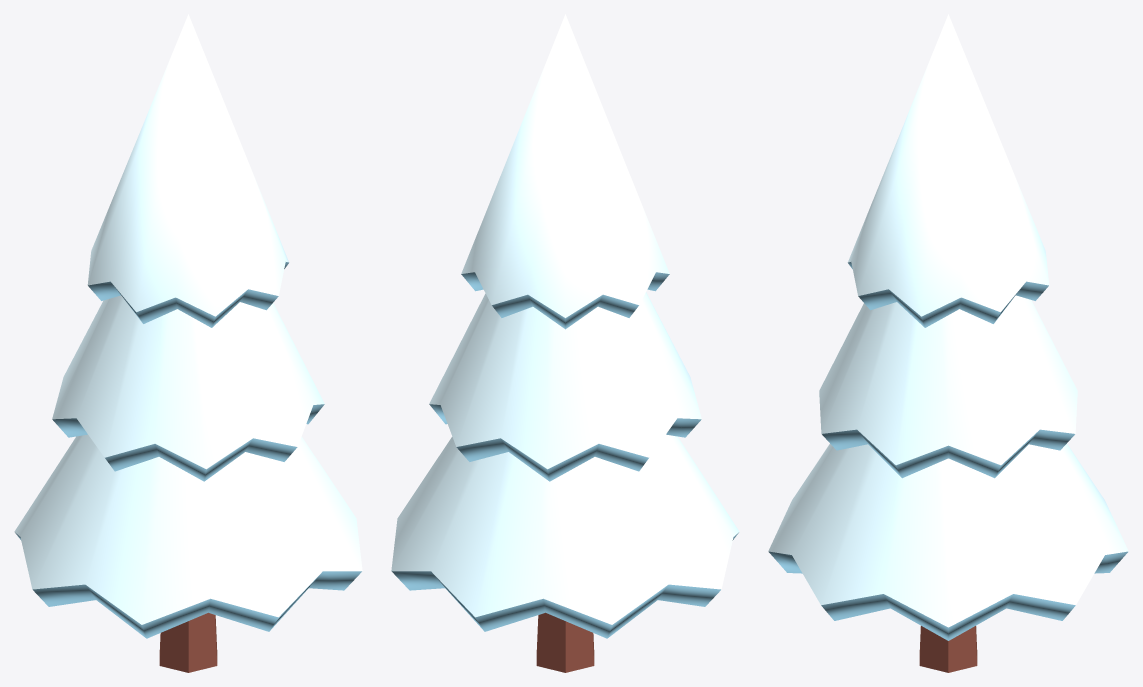
Rendered from Env_Pine_Small.glb.
3 views of the same model, side by side, from view 1: azimuth 30°, elevation 25°; view 2: azimuth 150°, elevation 25°; view 3: azimuth 270°, elevation 25° (orthographic).
Parts seen in each view (by area): view 1: Pine_Small_Foliage, Pine_Small_Trunk; view 2: Pine_Small_Foliage, Pine_Small_Trunk; view 3: Pine_Small_Foliage, Pine_Small_Trunk.
Part boxes in pixels (box(x1,y1,x2,y2)): Pine_Small_Foliage: box(14, 14, 362, 638); Pine_Small_Trunk: box(159, 612, 217, 672); Pine_Small_Foliage: box(391, 14, 739, 638); Pine_Small_Trunk: box(536, 612, 594, 672); Pine_Small_Foliage: box(768, 14, 1128, 640); Pine_Small_Trunk: box(919, 626, 977, 672).
Size of the model in its own units: 0.76 by 1.5 by 0.76.
